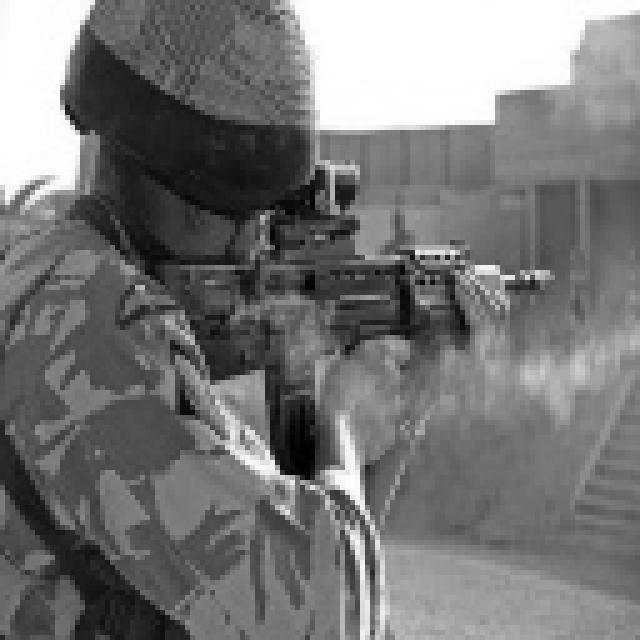Rifle: (128, 141, 566, 500)
